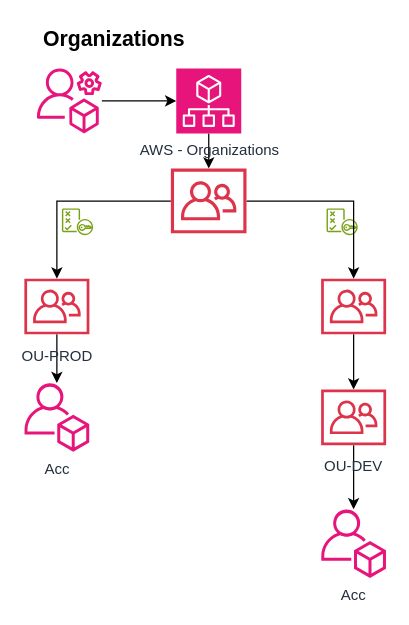
This 409x625 diagram has some shape labels left out. The shapes that lost their labels are listed below. From the top down, each one's centre as x and y in pixels, then its label:
point (68, 100): Management Account
point (208, 200): OU-Projeto
point (353, 305): OU-SDLC
